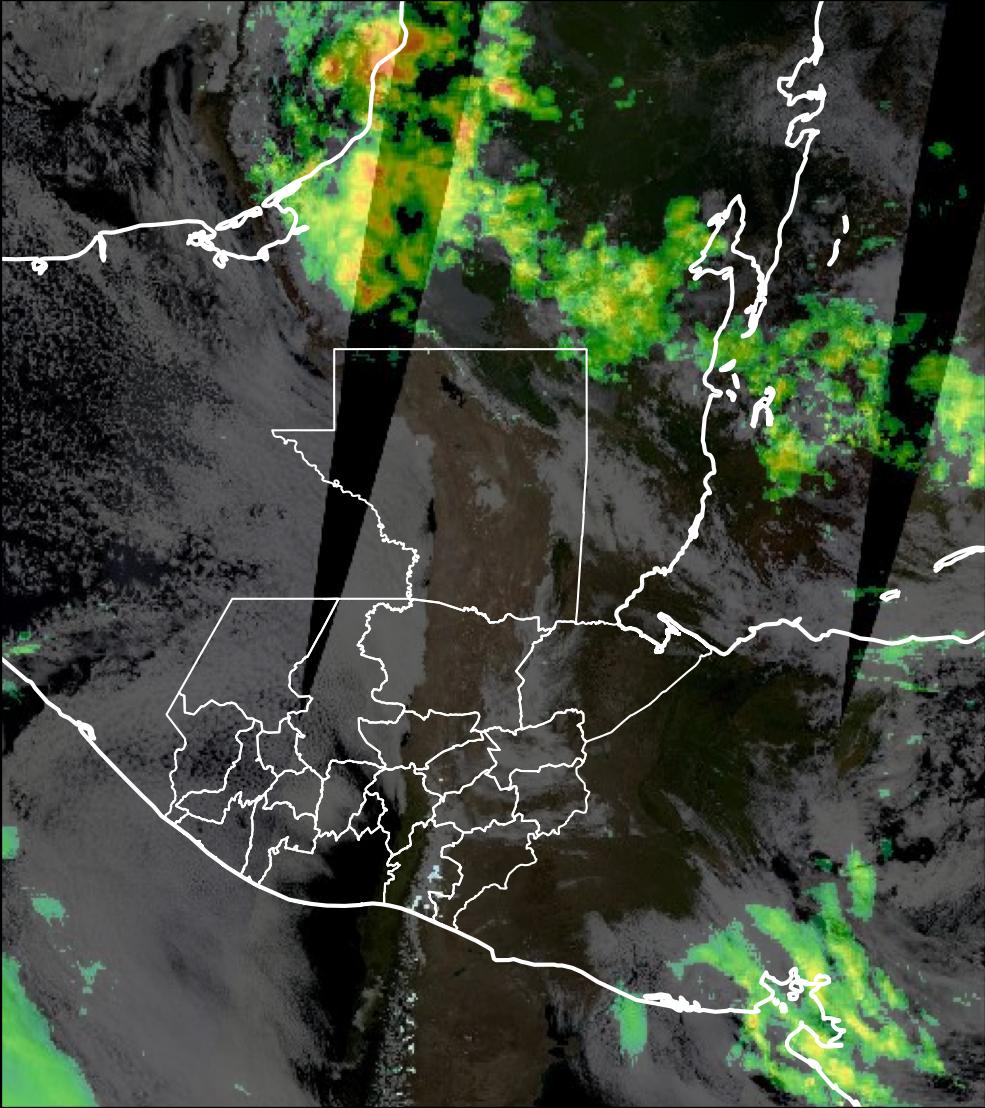precipitacion: (350, 158, 418, 247)
